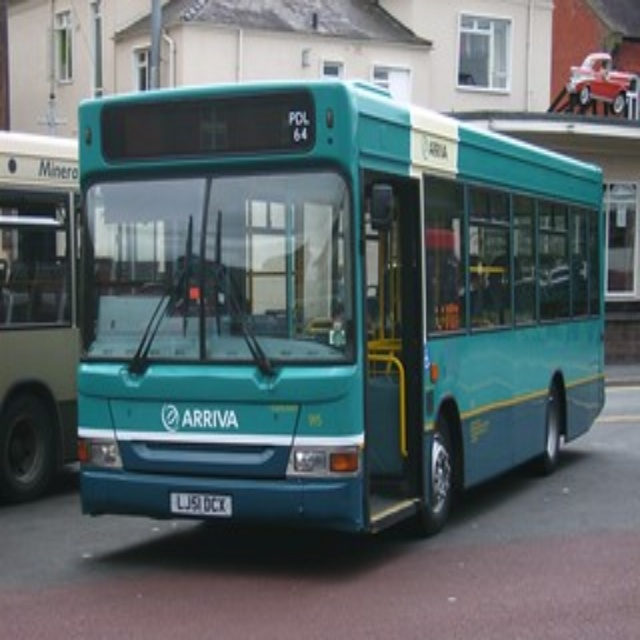Bus: (76, 75, 606, 539)
